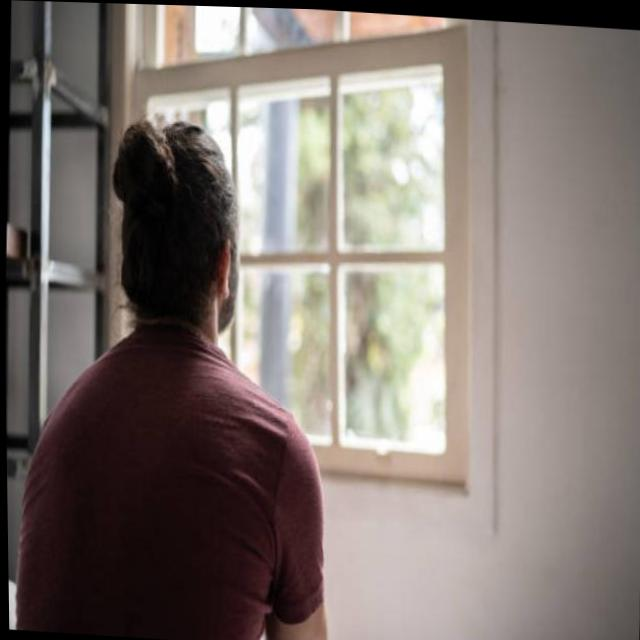no helmet: (101, 90, 259, 374)
